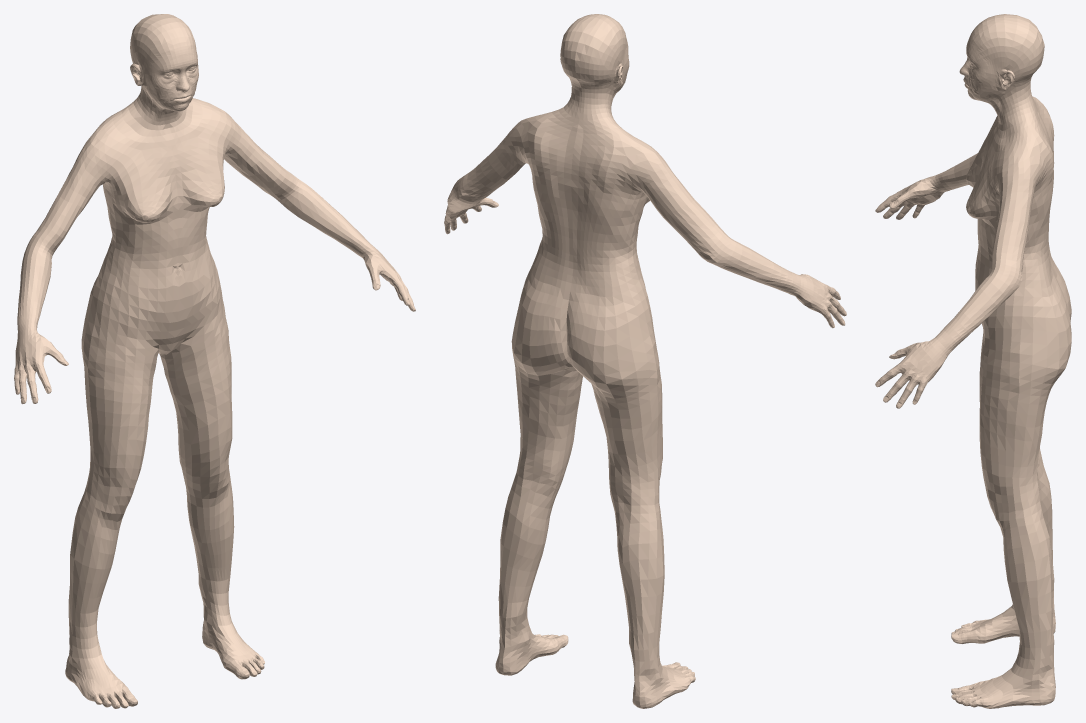
The model's file is female-older-average-medium.glb.
The picture shows the model from 3 angles, left to right: view 1: azimuth 30°, elevation 25°; view 2: azimuth 150°, elevation 25°; view 3: azimuth 270°, elevation 25°; orthographic projection.
Parts seen in each view (by area): view 1: world; view 2: world; view 3: world.
Part boxes in pixels (x1,y1,x2,y2): world: (14,14,415,708); world: (444,14,846,708); world: (875,14,1071,708).
Bounding box in the file's own units: 1.13 × 1.8 × 0.4918.
